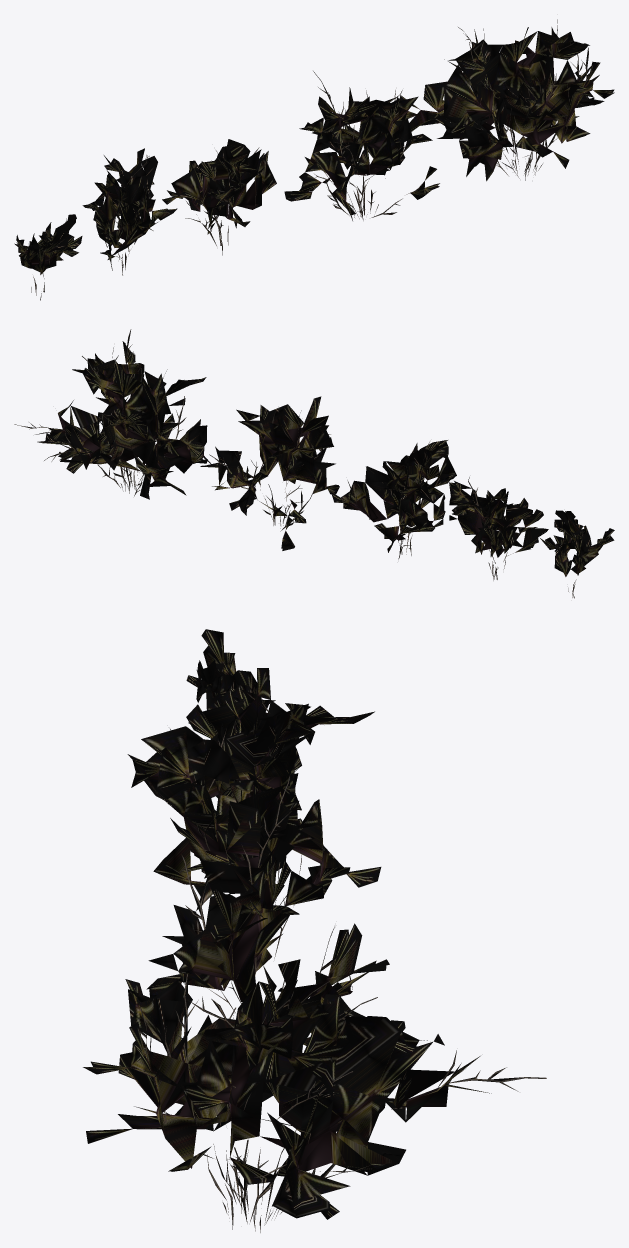
File: wild_rooibos_bush.glb
3 renders of one model, top to bottom at view 1: azimuth 30°, elevation 25°; view 2: azimuth 150°, elevation 25°; view 3: azimuth 270°, elevation 25°, orthographic. The views are drawn at different scales.
Visible parts, largest first — view 1: wild_rooibos_bush_a, wild_rooibos_bush_b, wild_rooibos_bush_c, wild_rooibos_bush_d, wild_rooibos_bush_e; view 2: wild_rooibos_bush_a, wild_rooibos_bush_b, wild_rooibos_bush_c, wild_rooibos_bush_d, wild_rooibos_bush_e; view 3: wild_rooibos_bush_a, wild_rooibos_bush_b, wild_rooibos_bush_c, wild_rooibos_bush_d, wild_rooibos_bush_e.
Boxes of the visible parts, <box> form: wild_rooibos_bush_a: <box>400,19,614,181</box>; wild_rooibos_bush_b: <box>284,71,439,220</box>; wild_rooibos_bush_c: <box>162,139,276,255</box>; wild_rooibos_bush_d: <box>82,148,177,275</box>; wild_rooibos_bush_e: <box>14,214,82,300</box>; wild_rooibos_bush_a: <box>14,329,211,499</box>; wild_rooibos_bush_b: <box>200,396,339,550</box>; wild_rooibos_bush_c: <box>331,440,456,559</box>; wild_rooibos_bush_d: <box>449,477,548,580</box>; wild_rooibos_bush_e: <box>540,510,614,598</box>; wild_rooibos_bush_a: <box>83,965,546,1232</box>; wild_rooibos_bush_b: <box>146,774,389,1045</box>; wild_rooibos_bush_c: <box>127,726,381,958</box>; wild_rooibos_bush_d: <box>170,668,374,810</box>; wild_rooibos_bush_e: <box>186,629,275,734</box>.
Bounding box in the file's own units: 2.27 × 0.5405 × 0.8219.
3 materials, 3 textured.
